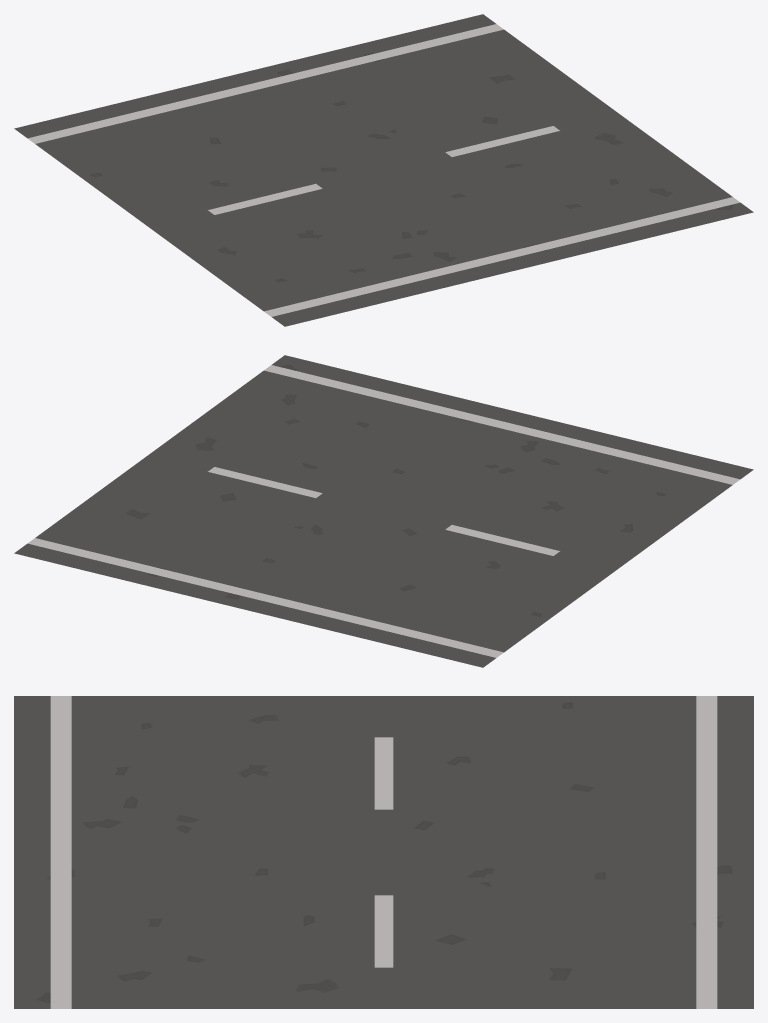
Rendered from SM_Env_Ground_Lines_05.fbx.
3 renders of one model, top to bottom at view 1: azimuth 30°, elevation 25°; view 2: azimuth 150°, elevation 25°; view 3: azimuth 270°, elevation 25°, orthographic. The views are drawn at different scales.
Parts seen in each view (by area): view 1: SM_Env_Ground_Lines_05; view 2: SM_Env_Ground_Lines_05; view 3: SM_Env_Ground_Lines_05.
Part boxes in pixels (<box>): SM_Env_Ground_Lines_05: <box>14,14,753,326</box>; SM_Env_Ground_Lines_05: <box>14,355,753,667</box>; SM_Env_Ground_Lines_05: <box>14,696,753,1008</box>.
Size of the model in its own units: 1000 by 0 by 1000.
